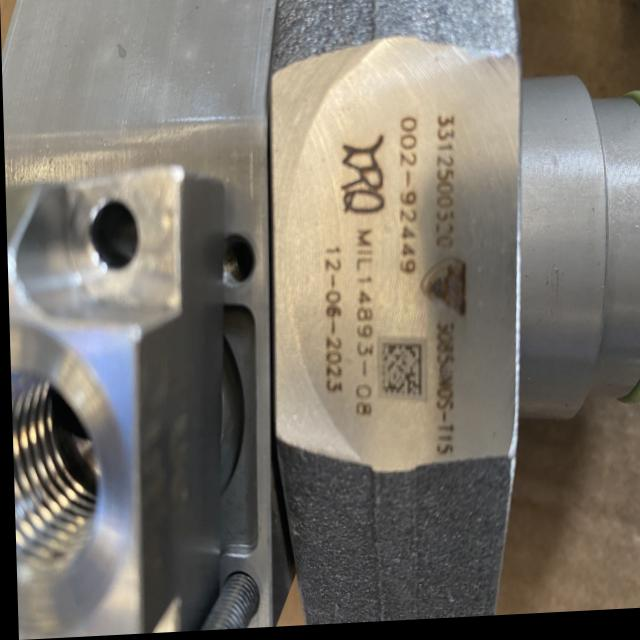dmc: (379, 346, 420, 400)
